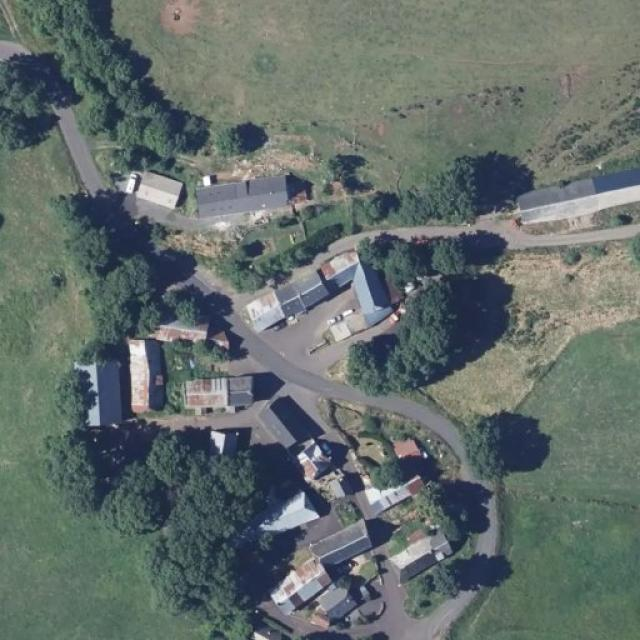ferme: (296, 228, 415, 342), (517, 160, 640, 228), (192, 167, 306, 221), (72, 341, 126, 426), (181, 355, 253, 411), (265, 555, 326, 615), (241, 280, 296, 336), (125, 160, 182, 212), (128, 319, 158, 413)
maison: (387, 524, 456, 580), (261, 389, 320, 452), (362, 481, 429, 524), (313, 516, 372, 564), (314, 576, 358, 631), (209, 422, 241, 452)
